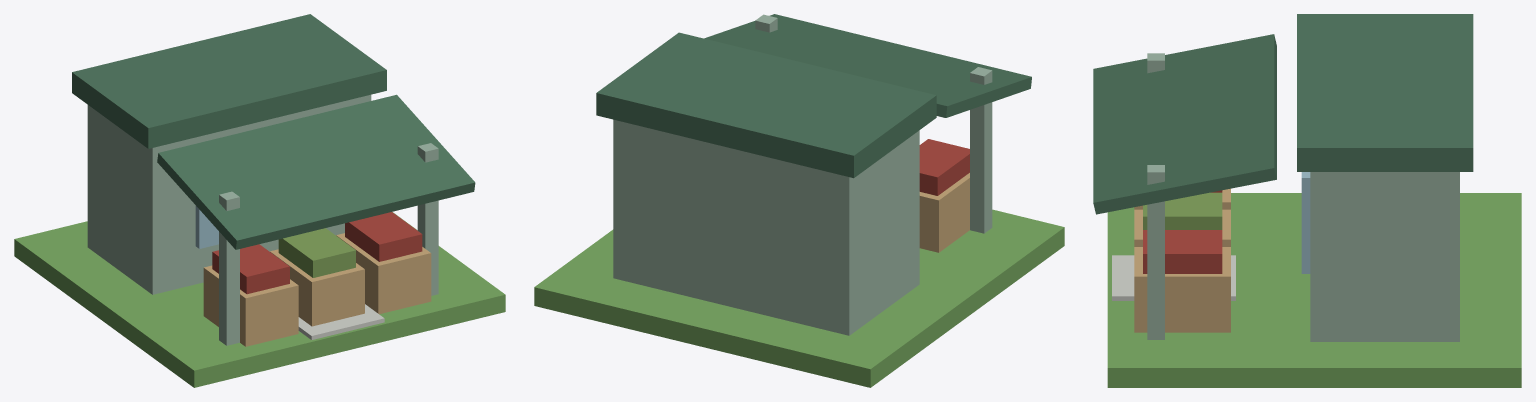
File: market.glb
3 renders of one model, left to right at view 1: azimuth 30°, elevation 25°; view 2: azimuth 150°, elevation 25°; view 3: azimuth 270°, elevation 25°, orthographic. The views are drawn at different scales.
Visible parts, largest first — view 1: market; view 2: market; view 3: market.
Part boxes in pixels (bbox=[...]): market: bbox=[14, 14, 505, 387]; market: bbox=[534, 14, 1064, 387]; market: bbox=[1093, 14, 1521, 387].
Size of the model in its own units: 0.94 by 0.55 by 0.9729.
